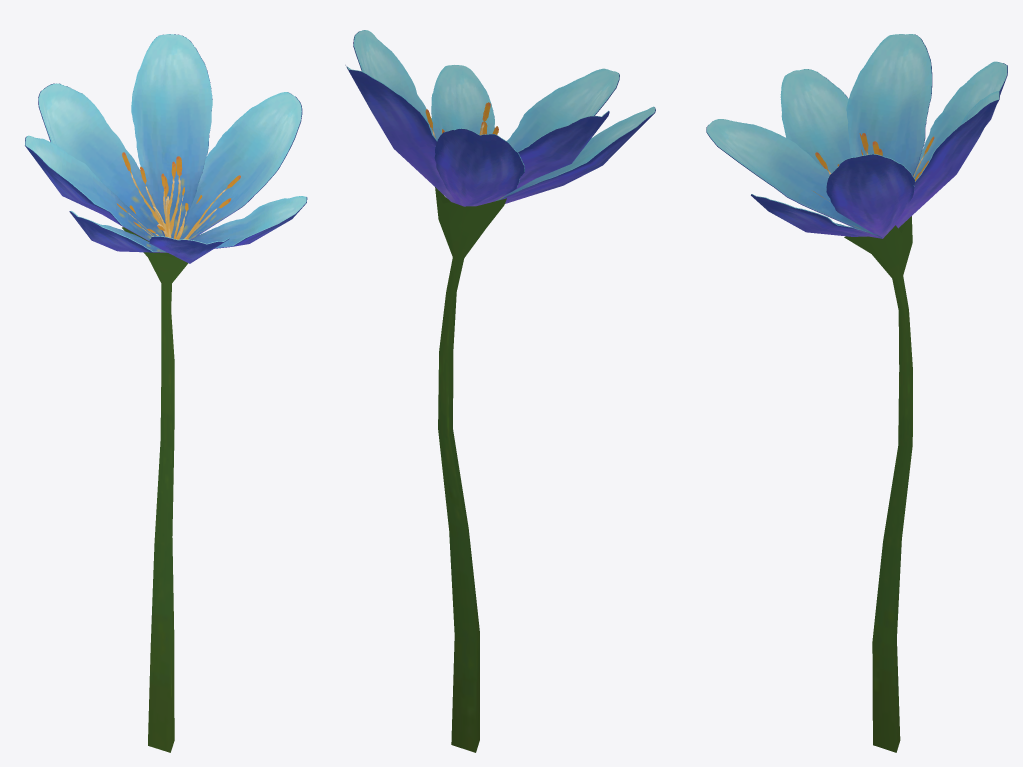
The model's file is Homeworld_General_Common_Thing_Prop_Irodori_MainFlower_08_Low_Vo.fbx.
The picture shows the model from 3 angles, left to right: view 1: azimuth 30°, elevation 25°; view 2: azimuth 150°, elevation 25°; view 3: azimuth 270°, elevation 25°; orthographic projection. The views are drawn at different scales.
Parts seen in each view (by area): view 1: Homeworld_General_Common_Thing_Prop_Irodori_MainFlower_08_Vo; view 2: Homeworld_General_Common_Thing_Prop_Irodori_MainFlower_08_Vo; view 3: Homeworld_General_Common_Thing_Prop_Irodori_MainFlower_08_Vo.
Part boxes in pixels (x1,y1,x2,y2): Homeworld_General_Common_Thing_Prop_Irodori_MainFlower_08_Vo: [25, 34, 307, 752]; Homeworld_General_Common_Thing_Prop_Irodori_MainFlower_08_Vo: [345, 30, 655, 752]; Homeworld_General_Common_Thing_Prop_Irodori_MainFlower_08_Vo: [706, 34, 1007, 752].
Size of the model in its own units: 0.1099 by 0.267 by 0.11.
